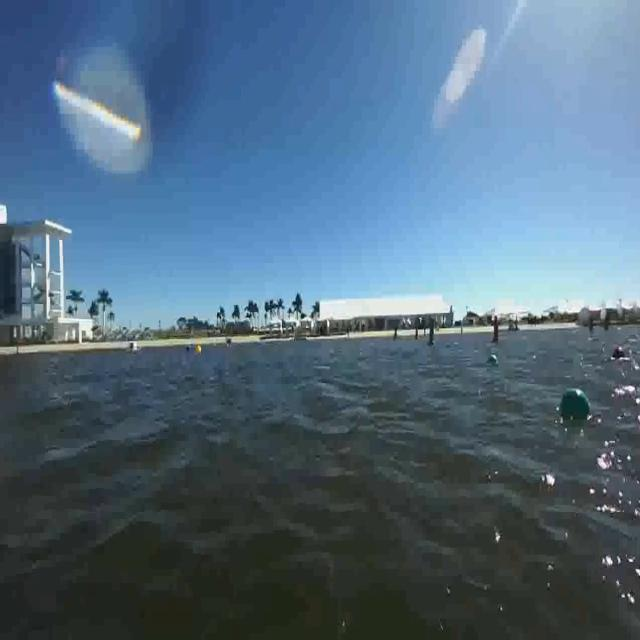green-buoy: (558, 388, 589, 423)
